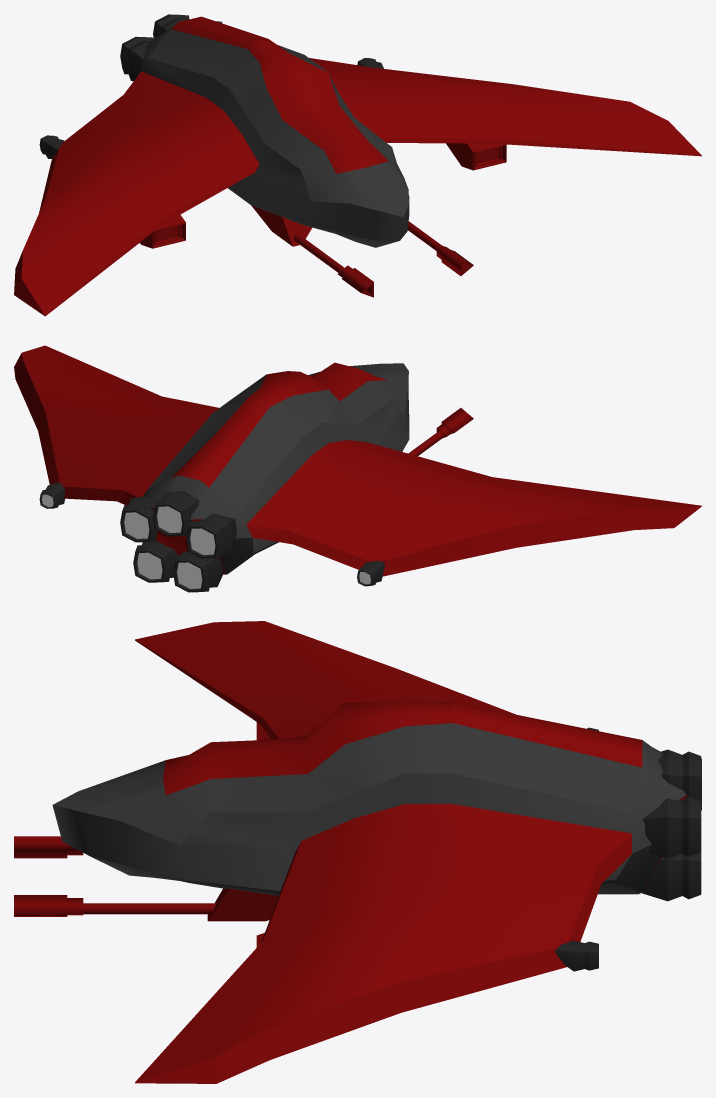
The model's file is Dogfighter_Empire.FBX.
The picture shows the model from 3 angles, top to bottom: view 1: azimuth 30°, elevation 25°; view 2: azimuth 150°, elevation 25°; view 3: azimuth 270°, elevation 25°; orthographic projection. The views are drawn at different scales.
Visible parts, largest first — view 1: Box001; view 2: Box001; view 3: Box001.
Boxes of the visible parts, box(x1,y1,x2,y2) form: Box001: box(14, 14, 701, 316); Box001: box(14, 345, 701, 592); Box001: box(14, 621, 701, 1083).
Size of the model in its own units: 288 by 54.36 by 188.
